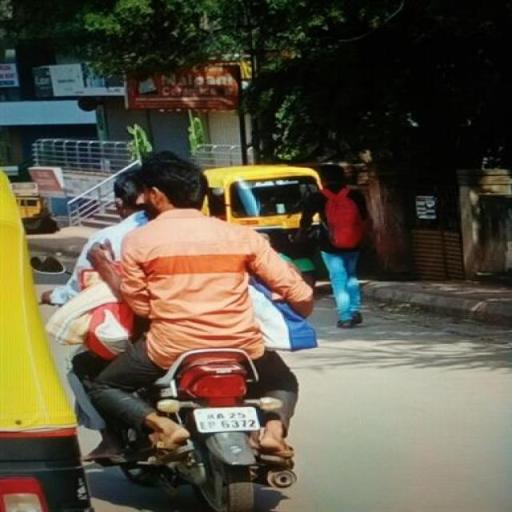tripple riding: (51, 154, 308, 351)
